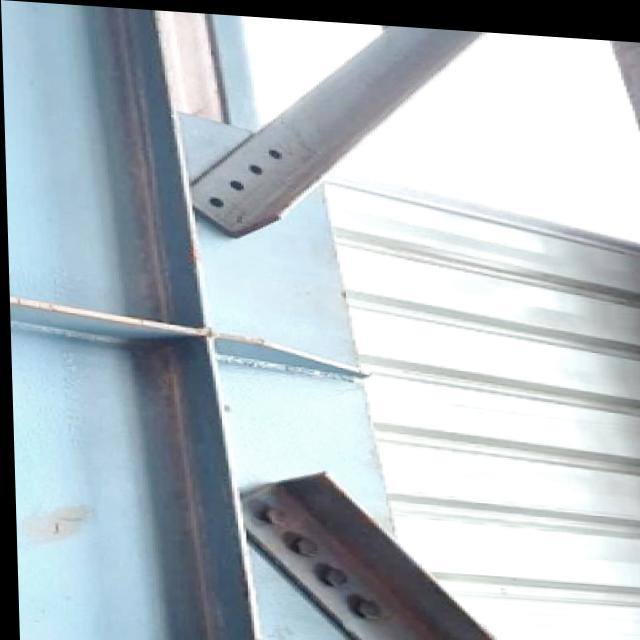Missing bolt: (206, 194, 233, 209), (227, 176, 242, 191), (268, 147, 286, 159), (247, 162, 265, 173)
Regular bolt: (233, 495, 290, 524), (282, 526, 321, 556), (349, 591, 383, 620), (317, 559, 351, 586)
